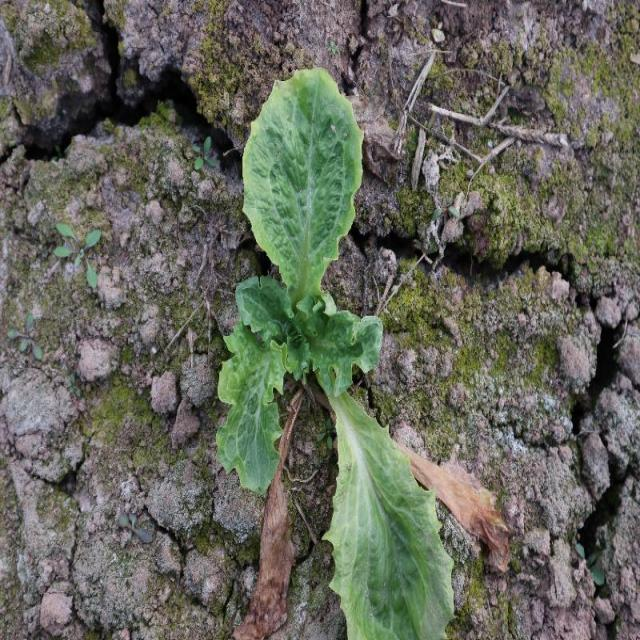crop: (215, 64, 457, 640)
